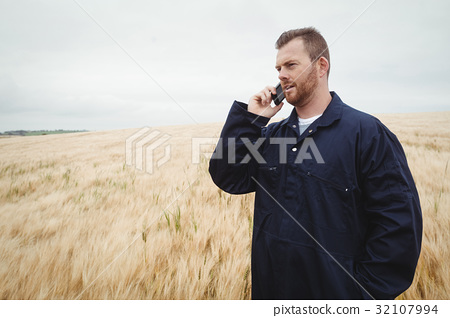phone: (260, 78, 284, 109)
talk: (250, 55, 324, 121)
